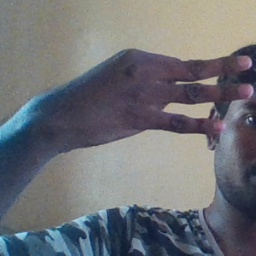K: (59, 46, 255, 144)
